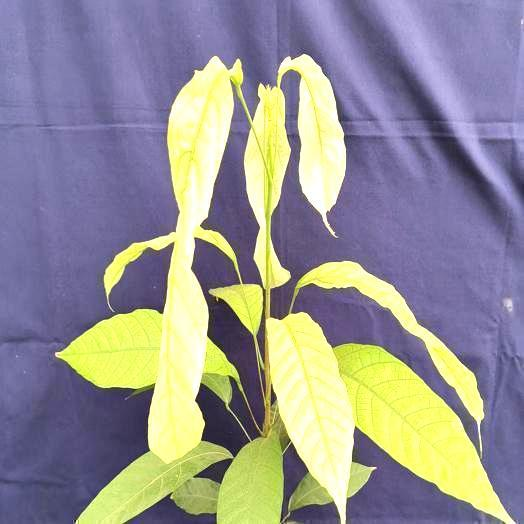Iron: (148, 56, 233, 461), (334, 344, 512, 521), (292, 261, 482, 424), (267, 313, 354, 523), (76, 441, 231, 523), (278, 55, 345, 236), (56, 309, 160, 388), (217, 436, 283, 523), (104, 233, 175, 311), (254, 85, 290, 213), (245, 130, 266, 287), (210, 284, 261, 339), (196, 228, 240, 279), (171, 477, 217, 514), (289, 473, 332, 511), (346, 464, 375, 498), (269, 243, 289, 286)
